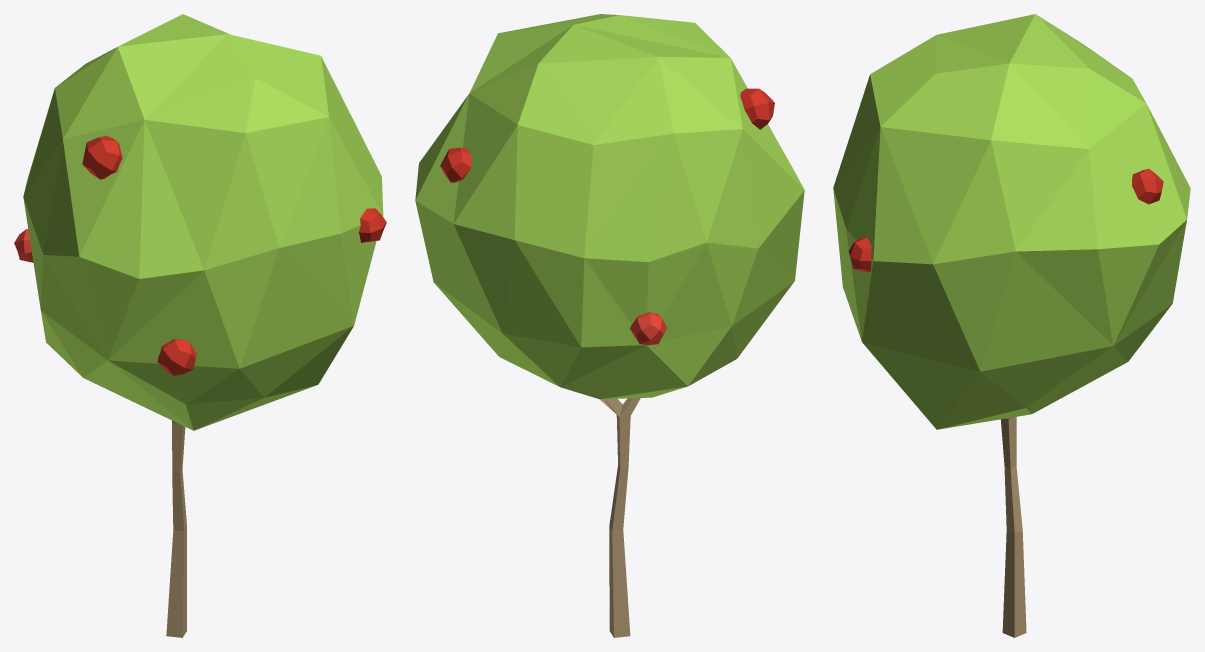
File: Apple_Tree_Apples_s_BT_01.fbx
3 renders of one model, left to right at view 1: azimuth 30°, elevation 25°; view 2: azimuth 150°, elevation 25°; view 3: azimuth 270°, elevation 25°, orthographic.
Parts seen in each view (by area): view 1: Apple_Tree_Apples_s_BT_01; view 2: Apple_Tree_Apples_s_BT_01; view 3: Apple_Tree_Apples_s_BT_01.
Part boxes in pixels (bbox=[...]): Apple_Tree_Apples_s_BT_01: bbox=[14, 14, 386, 637]; Apple_Tree_Apples_s_BT_01: bbox=[415, 14, 804, 637]; Apple_Tree_Apples_s_BT_01: bbox=[833, 14, 1190, 637].
Bounding box in the file's own units: 178 × 329 × 179.
